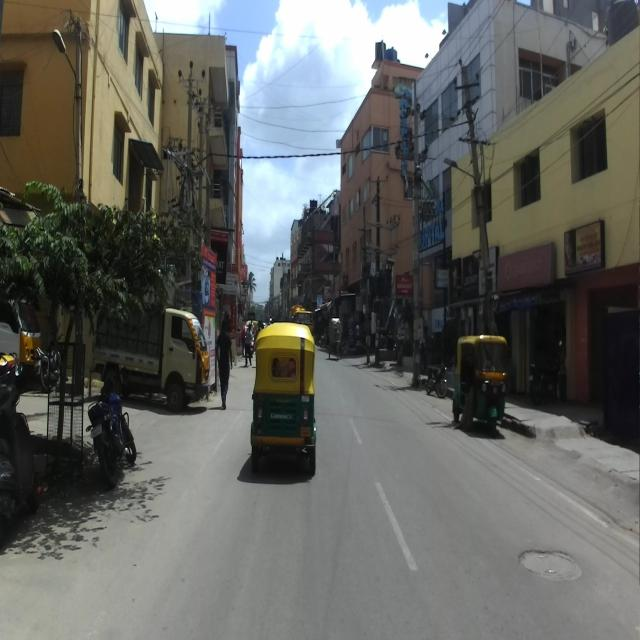autorickshaw: (250, 321, 317, 475), (452, 334, 510, 438)
motorcycle: (0, 362, 40, 514), (33, 321, 63, 393)
motorcycle_bajaj: (85, 362, 137, 490)
truck: (92, 298, 211, 414)
